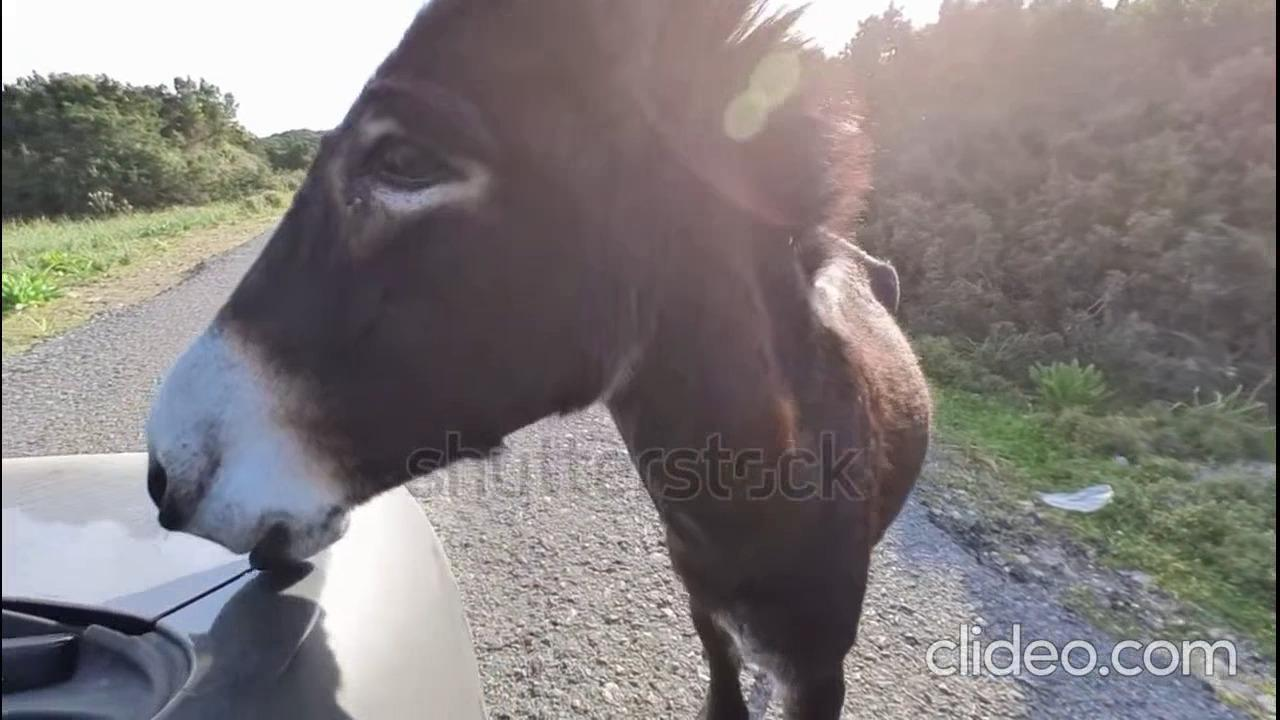Donkey: (129, 1, 935, 720)
